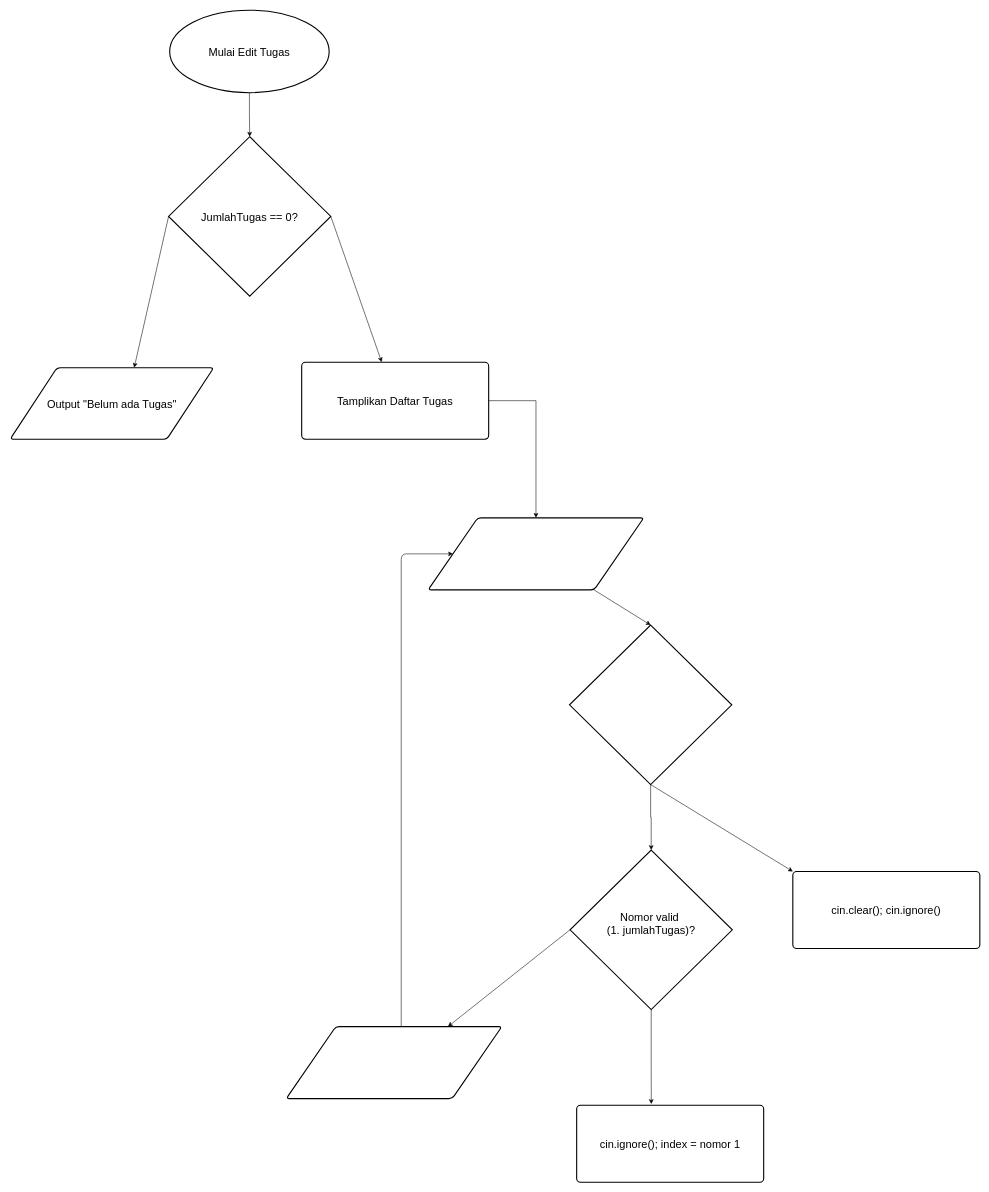
Image size: 989x1192. Some labels were removed from this diagram. The shapes that lost their labels are listed below. From the top down, each one's box as (x1, y1, x2, y2) in pixels, then its label:
(427, 517, 644, 590): Input nomor tugas
(569, 624, 732, 785): Cin.fail()?
(285, 1026, 502, 1099): Output "Nomor tidak valid! "
